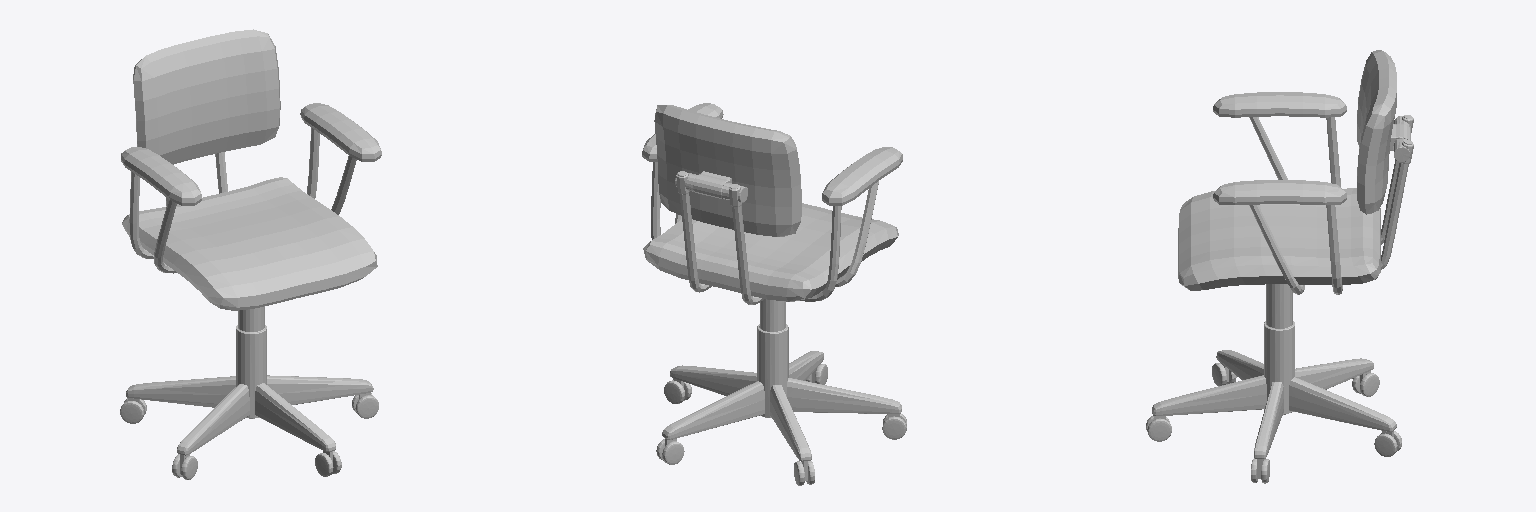
The model's file is office_chair.obj.
The picture shows the model from 3 angles: view 1: azimuth 30°, elevation 25°; view 2: azimuth 150°, elevation 25°; view 3: azimuth 270°, elevation 25°; orthographic projection.
Visible parts, largest first — view 1: OfficeChair; view 2: OfficeChair; view 3: OfficeChair.
Boxes of the visible parts, x1,y1,x2,y2 form: OfficeChair: [120, 29, 381, 479]; OfficeChair: [642, 103, 906, 485]; OfficeChair: [1146, 50, 1413, 483].
Size of the model in its own units: 0.8797 by 1.34 by 0.9196.